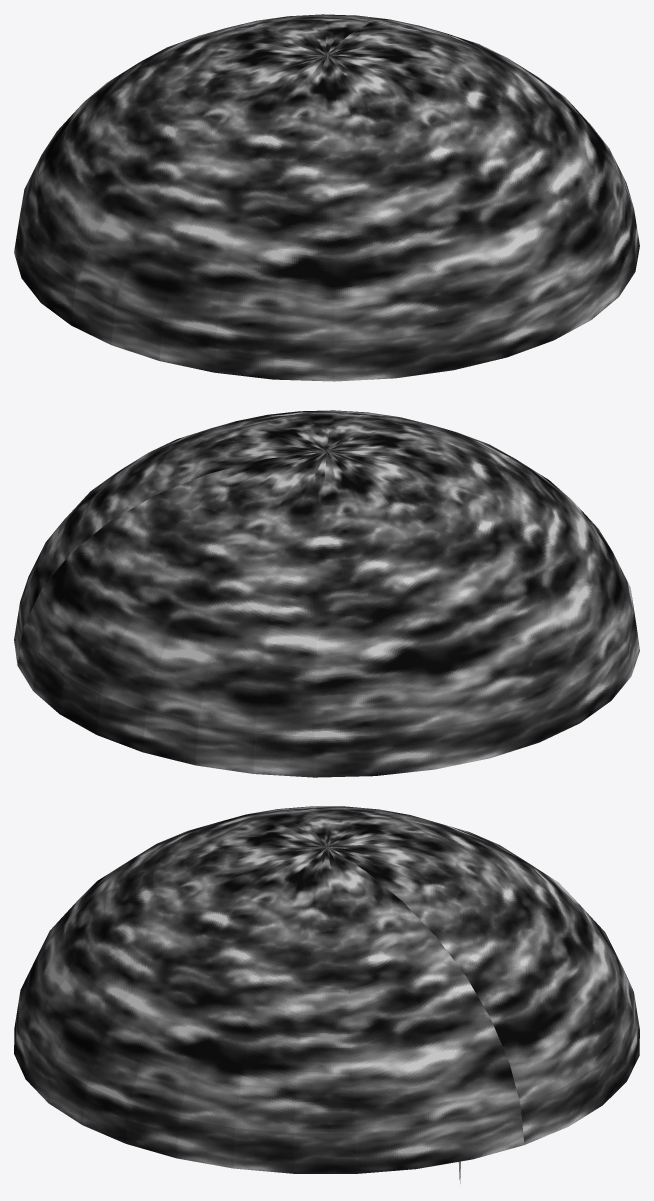
The model's file is intro.gltf.
3 views of the same model, one above another, from view 1: azimuth 30°, elevation 25°; view 2: azimuth 150°, elevation 25°; view 3: azimuth 270°, elevation 25° (orthographic).
Visible parts, largest first — view 1: Clouds; view 2: Clouds; view 3: Clouds.
Part boxes in pixels (bbox=[...]): Clouds: bbox=[14, 14, 639, 381]; Clouds: bbox=[14, 410, 639, 777]; Clouds: bbox=[14, 806, 639, 1173].
Bounding box in the file's own units: 1480 × 758 × 1480.
Materials: 7 (7 with a texture image).
